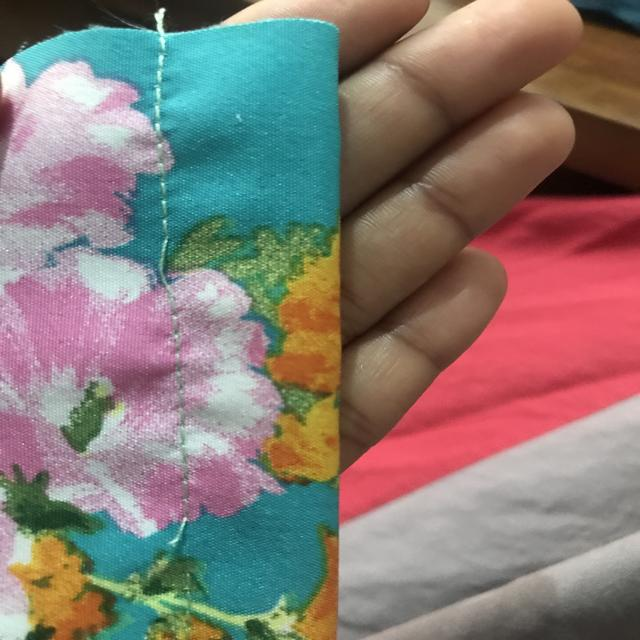skip: (154, 231, 200, 300)
